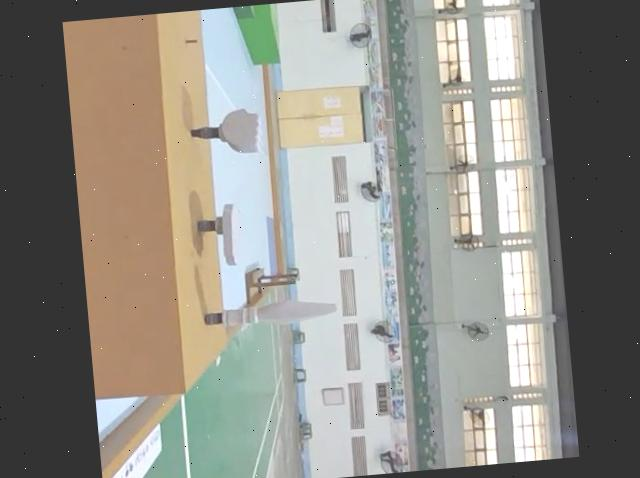Fist: (188, 107, 265, 159)
Hand: (192, 201, 245, 268)
Sph: (199, 292, 339, 332)
